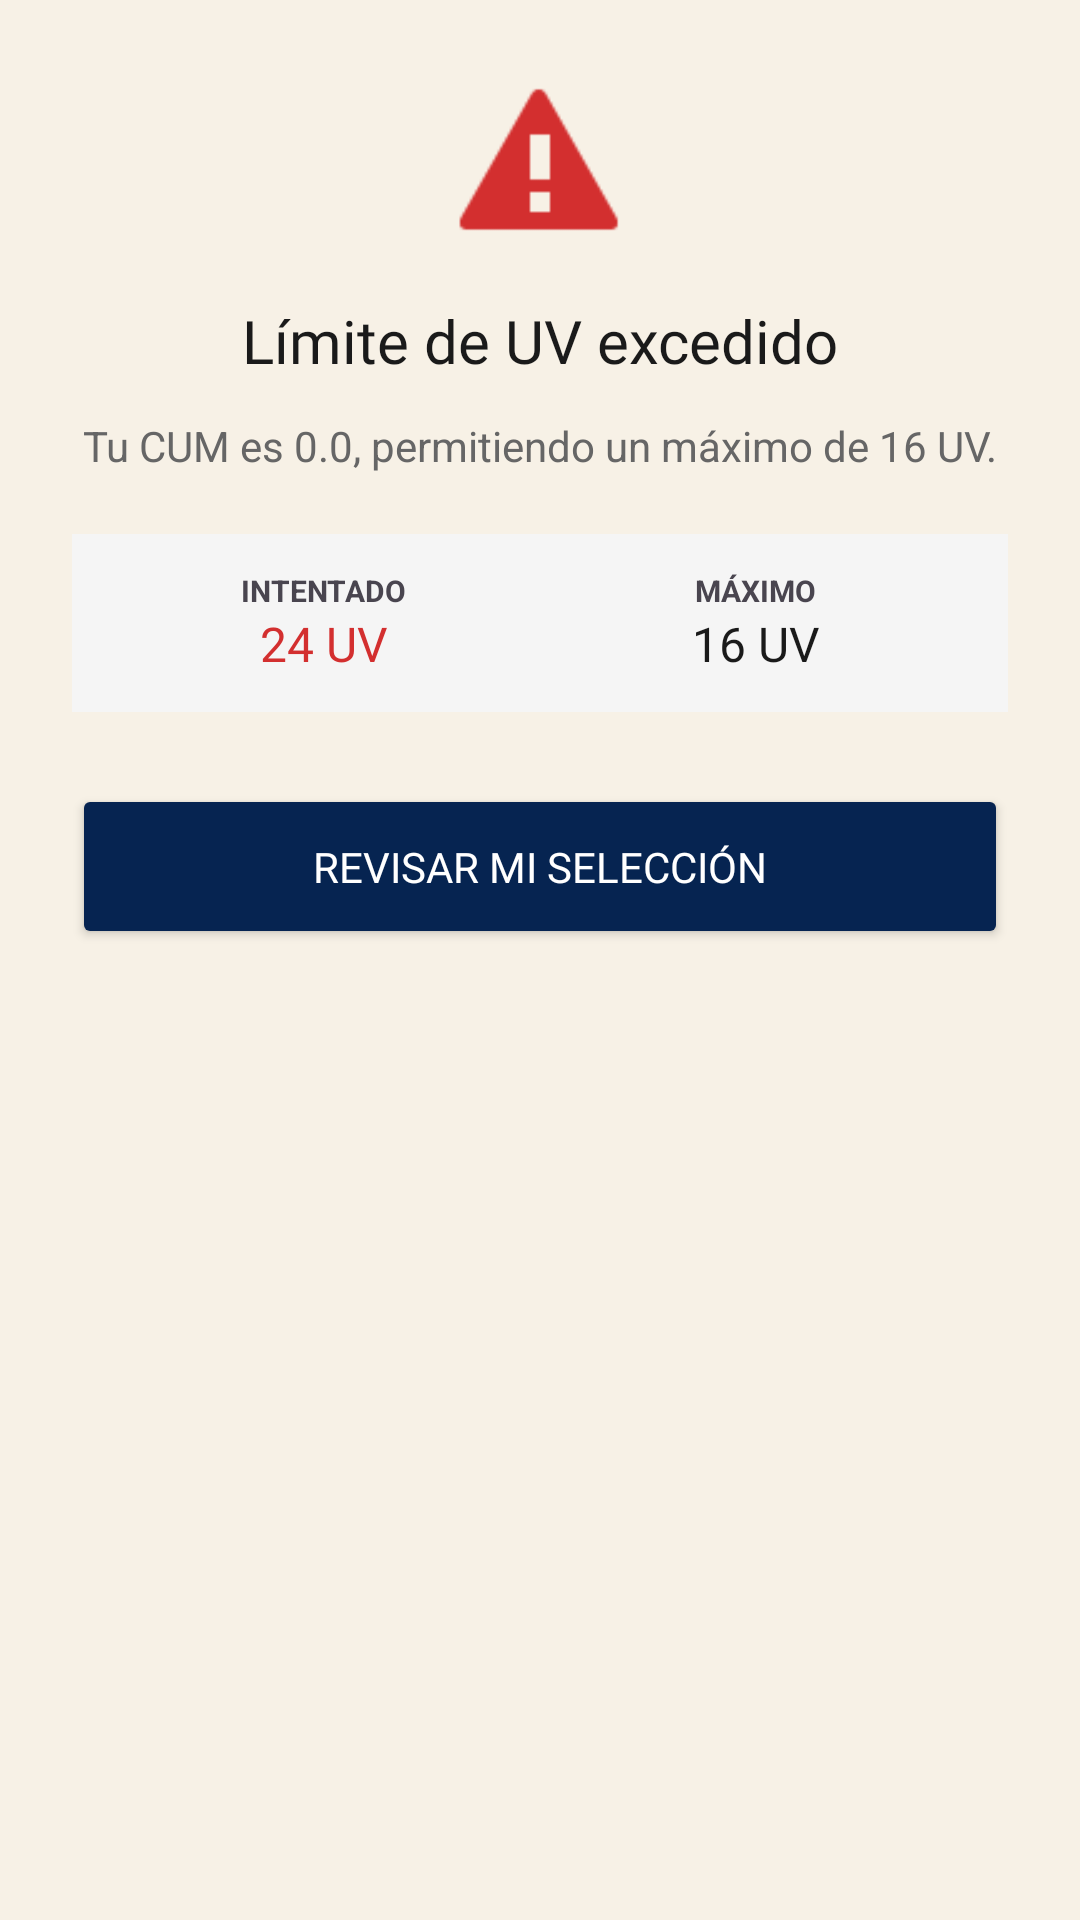

Icon bounding boxes for this 1080×1920 phone screenshot, format (x1, y1, x2, y2):
warning: (459, 89, 618, 230)
